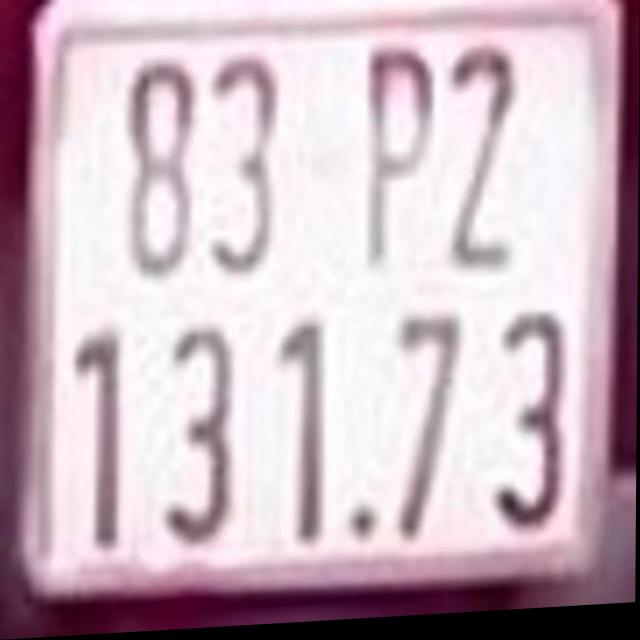1: (73, 321, 118, 545), (281, 319, 325, 543)
2: (449, 42, 519, 277)
3: (211, 57, 283, 275), (172, 324, 234, 547), (500, 318, 561, 526)
7: (397, 317, 462, 540)
8: (125, 60, 202, 272)
P: (364, 48, 438, 279)
